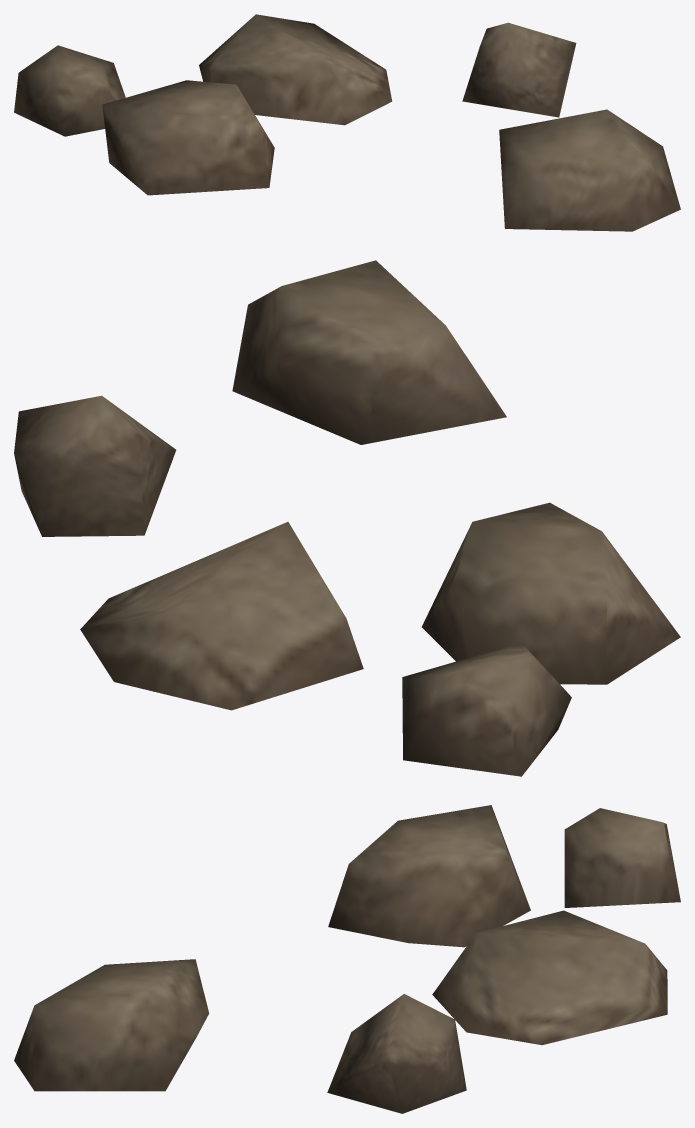
The model's file is shizi02.FBX.
3 views of the same model, one above another, from view 1: azimuth 30°, elevation 25°; view 2: azimuth 150°, elevation 25°; view 3: azimuth 270°, elevation 25° (orthographic). The views are drawn at different scales.
Visible parts, largest first — view 1: polySurface1254; view 2: polySurface1254; view 3: polySurface1254.
Part boxes in pixels (box(x1,y1,x2,y2)): polySurface1254: box(14, 14, 680, 231); polySurface1254: box(14, 260, 680, 776); polySurface1254: box(14, 805, 680, 1113).
Size of the model in its own units: 12.82 by 2.12 by 14.13.
